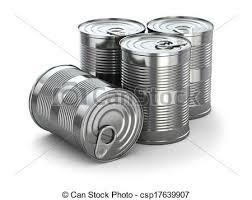Tin: (16, 10, 228, 168)
